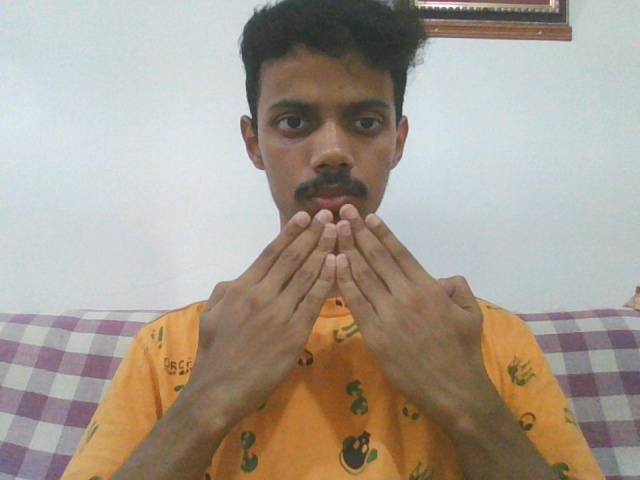ThankYou: (198, 203, 486, 391)
